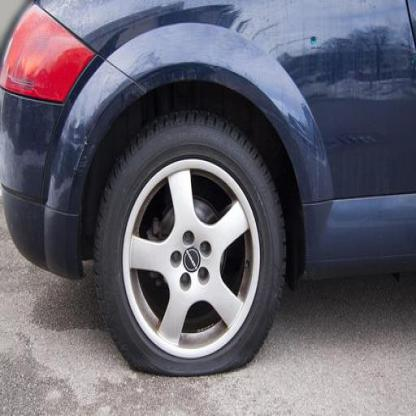Tire: (91, 104, 288, 377)
